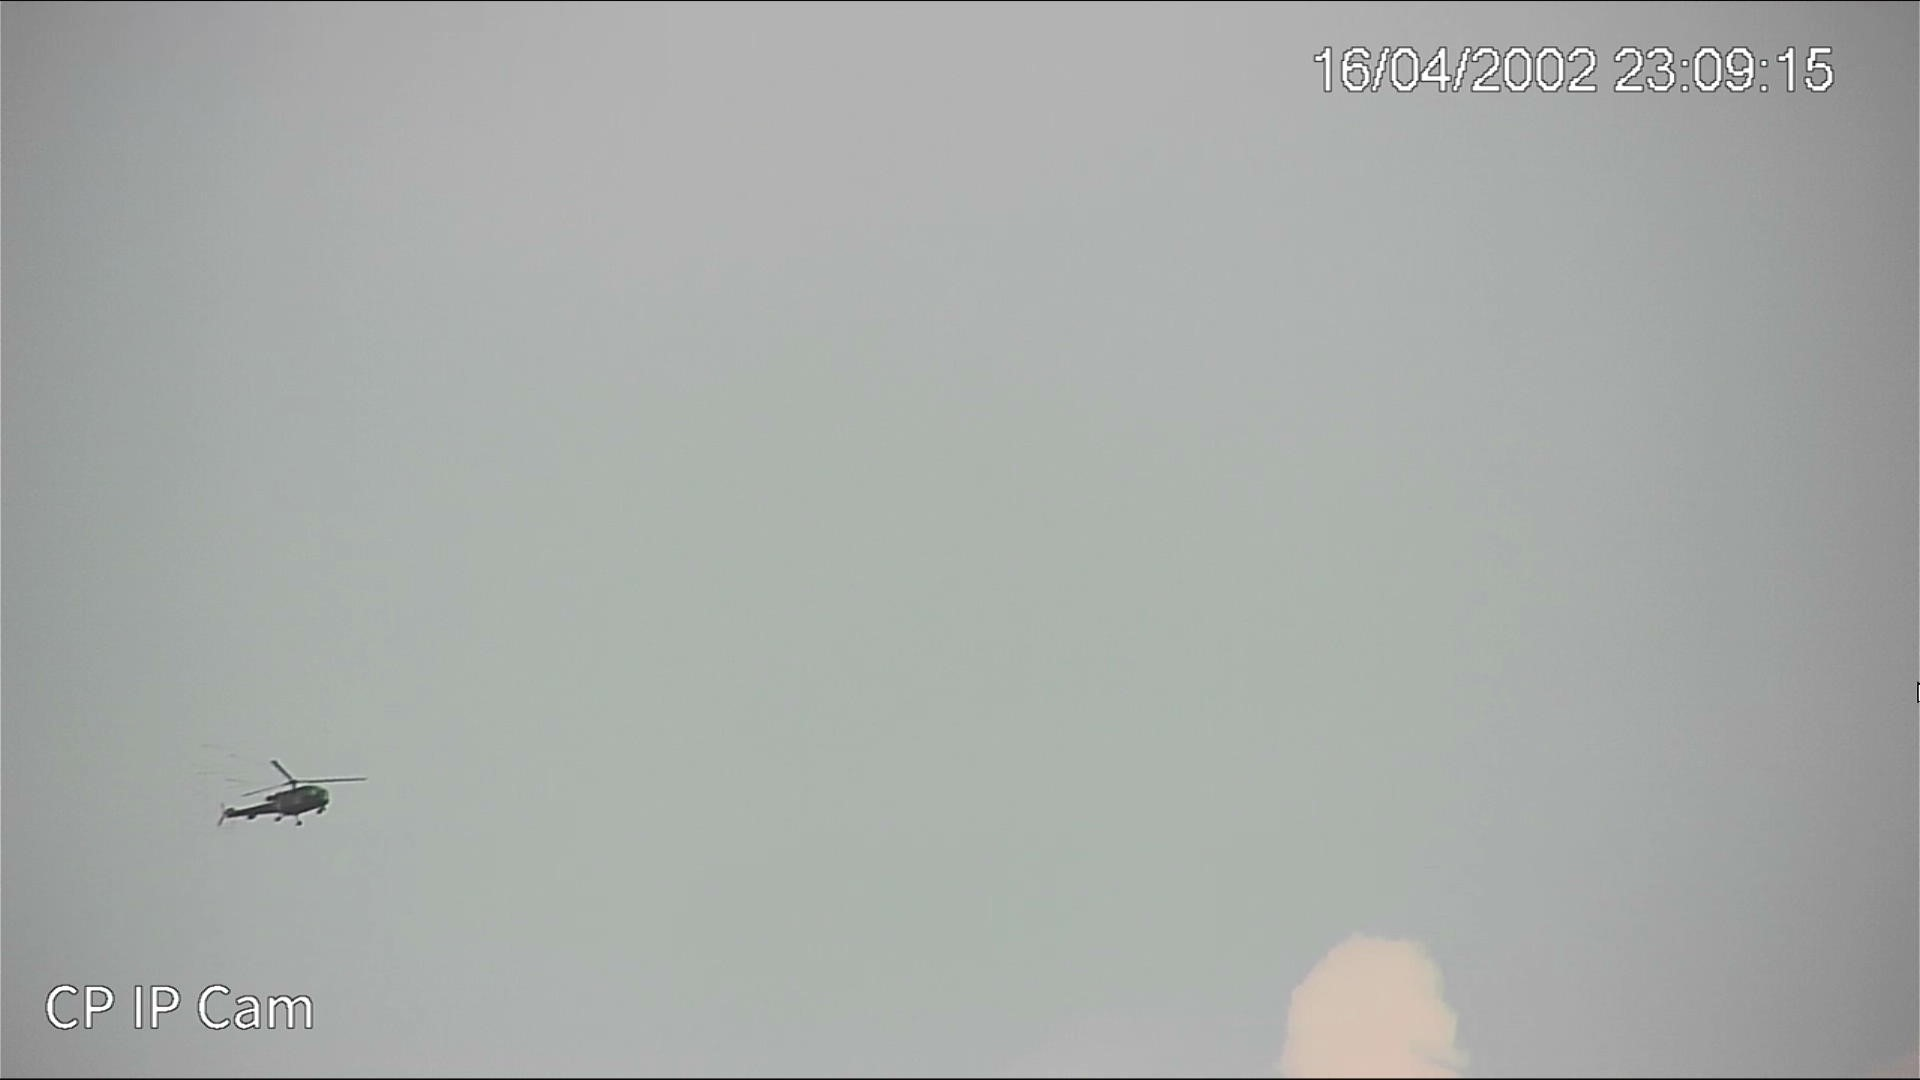SU_30: (208, 782, 342, 824)
